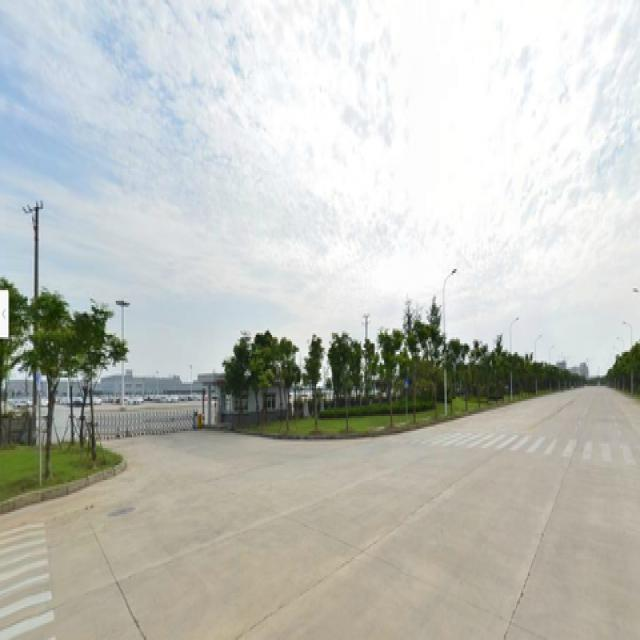koel: (78, 303, 110, 454), (272, 337, 303, 444)
